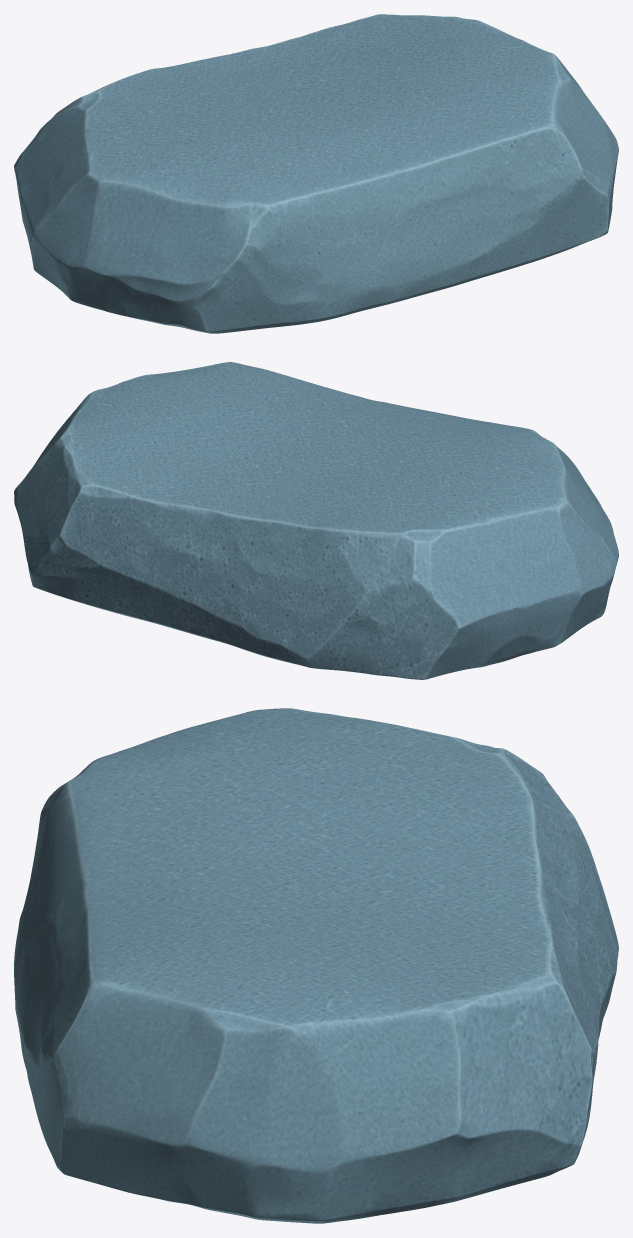
Rendered from Meshy_AI_stylized_stone_slab_20261124_image-to-3d-texture.fbx.
3 renders of one model, top to bottom at view 1: azimuth 30°, elevation 25°; view 2: azimuth 150°, elevation 25°; view 3: azimuth 270°, elevation 25°, orthographic. The views are drawn at different scales.
Visible parts, largest first — view 1: Mesh_0; view 2: Mesh_0; view 3: Mesh_0.
Part boxes in pixels (<box>): Mesh_0: <box>14,14,618,333</box>; Mesh_0: <box>14,362,618,679</box>; Mesh_0: <box>14,708,618,1223</box>.
Size of the model in its own units: 190 by 41.71 by 126.
Materials: 1 (1 with a texture image).
